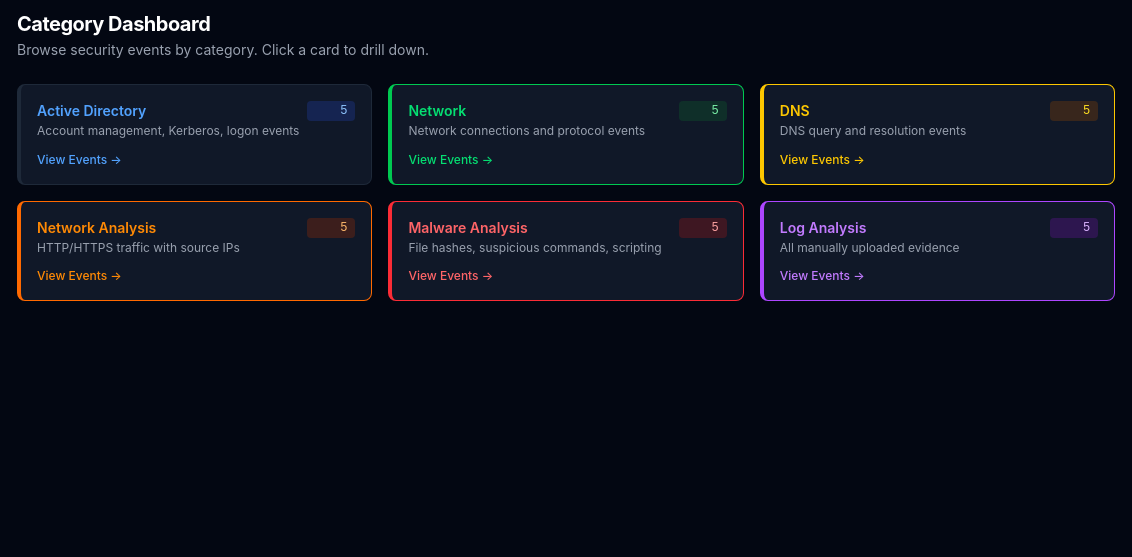
it: CategoryDashboardPage › empty state › shows the distinct empty state when no events match
Click the Active Directory card
What coordinates should you click on to do the following:
click the heading "Active Directory"
I would click on:
 (92, 110)
Its box is x1=37 y1=102 x2=146 y2=119.
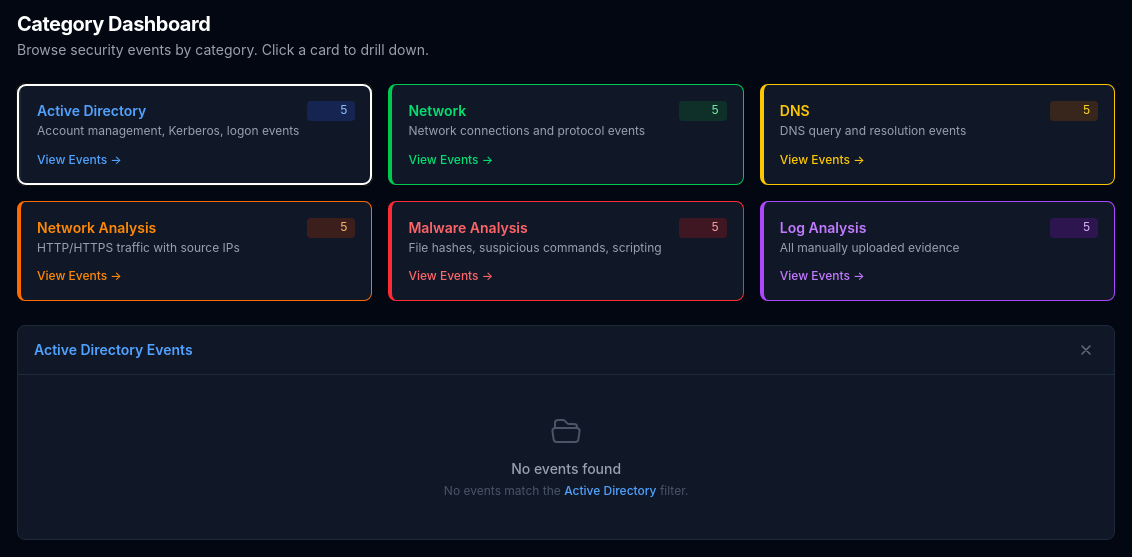
Now the element with test id "drill-empty-state" is shown, box x1=444 y1=415 x2=688 y2=498
